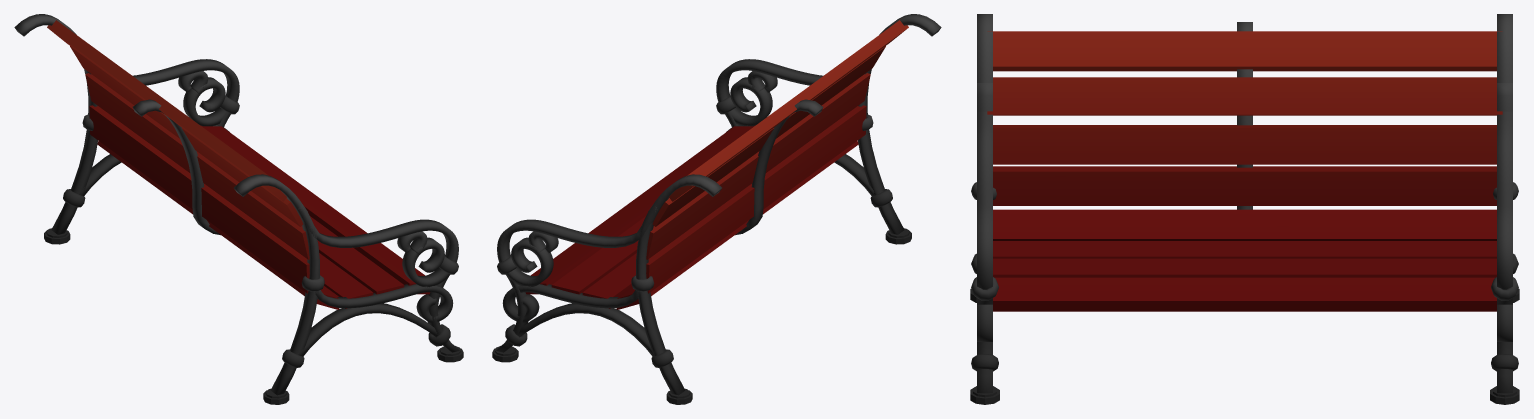
File: Bench_Normal_Fixed.fbx
The picture shows the model from 3 angles, left to right: view 1: azimuth 30°, elevation 25°; view 2: azimuth 150°, elevation 25°; view 3: azimuth 270°, elevation 25°; orthographic projection. The views are drawn at different scales.
Parts seen in each view (by area): view 1: BézierCurve.022; view 2: BézierCurve.022; view 3: BézierCurve.022.
Boxes of the visible parts, x1,y1,x2,y2 form: BézierCurve.022: (14, 14, 463, 404); BézierCurve.022: (492, 14, 941, 404); BézierCurve.022: (970, 14, 1519, 404).
Bounding box in the file's own units: 212 × 204 × 378.
